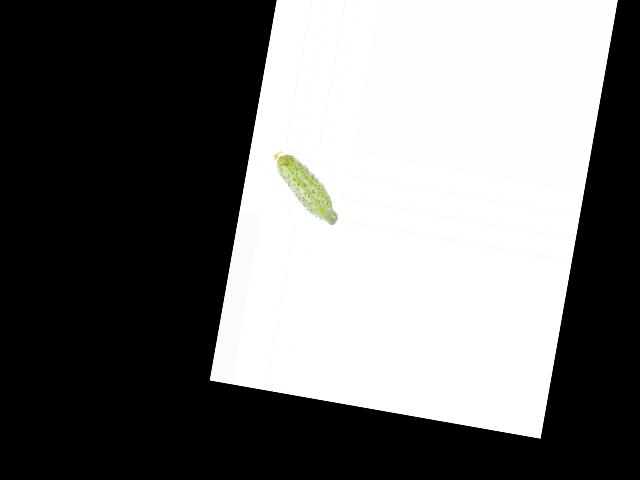cucumber: (263, 150, 346, 226)
